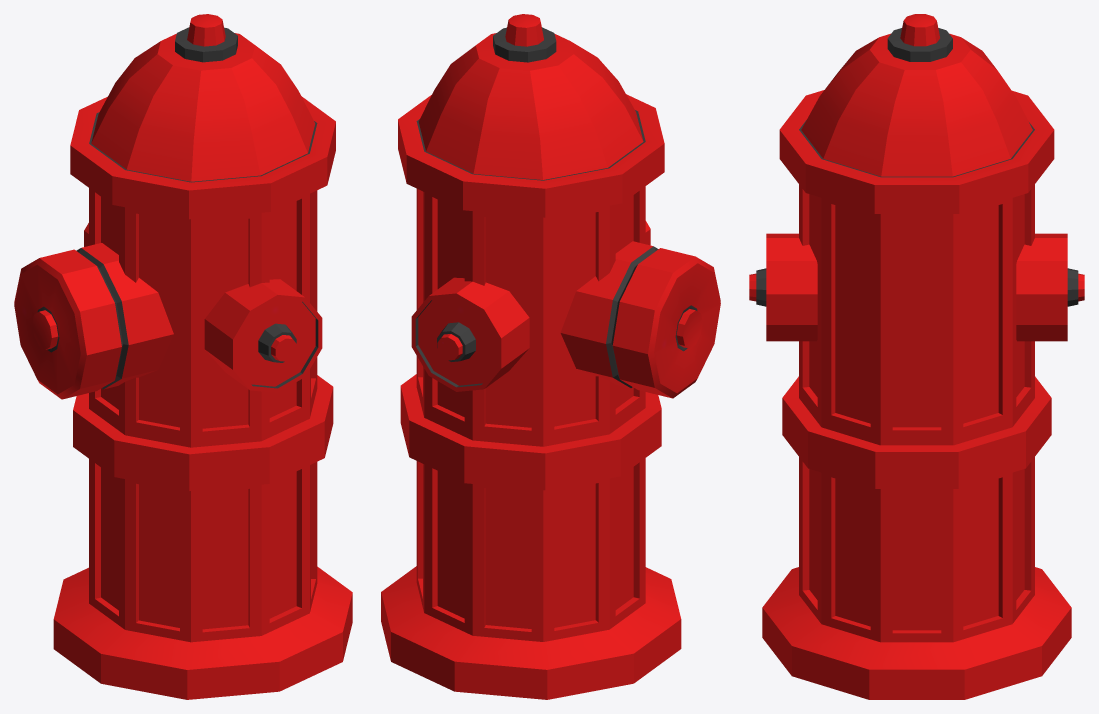
File: FireHydrant.fbx
3 views of the same model, side by side, from view 1: azimuth 30°, elevation 25°; view 2: azimuth 150°, elevation 25°; view 3: azimuth 270°, elevation 25° (orthographic).
Visible parts, largest first — view 1: Cylinder.008; view 2: Cylinder.008; view 3: Cylinder.008.
Boxes of the visible parts, bbox=[...] form: Cylinder.008: bbox=[14, 14, 352, 699]; Cylinder.008: bbox=[381, 14, 720, 699]; Cylinder.008: bbox=[749, 14, 1084, 699].
Size of the model in its own units: 82 by 168 by 81.93.
